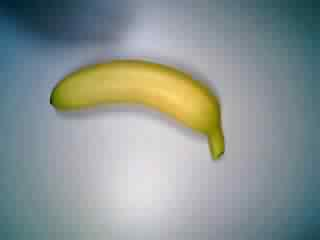banana: (48, 55, 227, 163)
